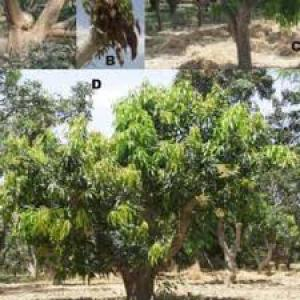Tree: (9, 66, 296, 290)
